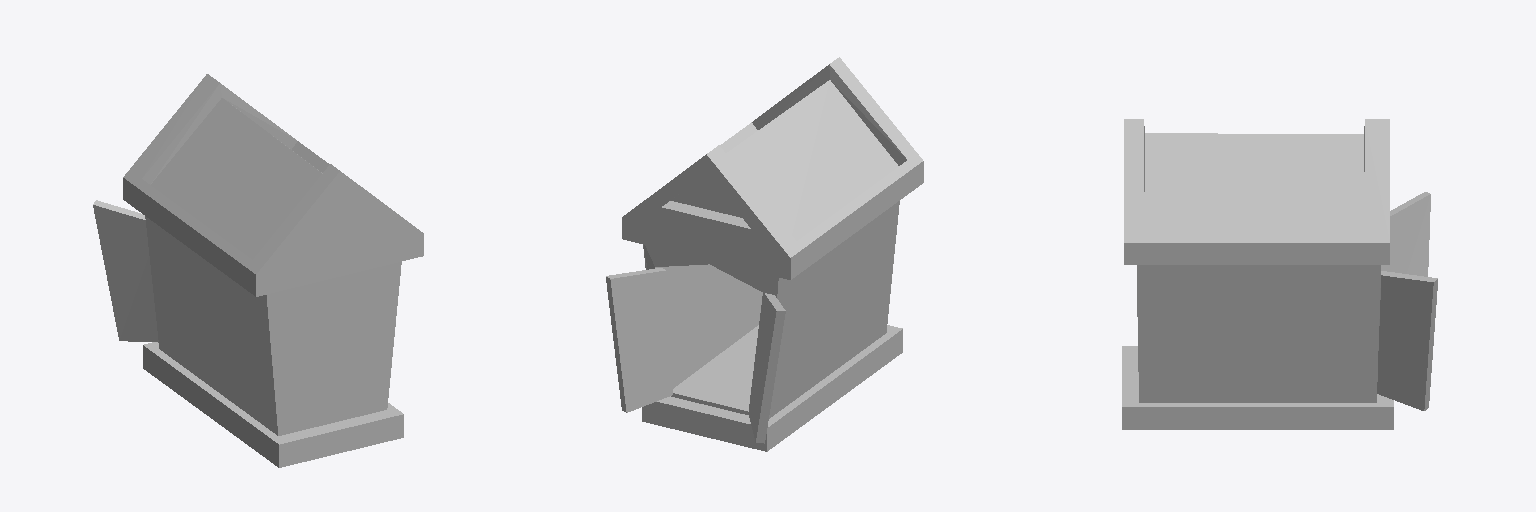
File: Texture_Crypt.obj
3 renders of one model, left to right at view 1: azimuth 30°, elevation 25°; view 2: azimuth 150°, elevation 25°; view 3: azimuth 270°, elevation 25°, orthographic.
Visible parts, largest first — view 1: Crypt Crypt, CryptDoors Crypt pCube17; view 2: Crypt Crypt, pCube16 CryptDoors Crypt, CryptDoors Crypt pCube17; view 3: Crypt Crypt, pCube16 CryptDoors Crypt, CryptDoors Crypt pCube17.
Boxes of the visible parts, x1=… form: Crypt Crypt: x1=123, y1=74, x2=423, y2=467; CryptDoors Crypt pCube17: x1=93, y1=200, x2=158, y2=342; Crypt Crypt: x1=622, y1=57, x2=923, y2=451; pCube16 CryptDoors Crypt: x1=606, y1=268, x2=672, y2=412; CryptDoors Crypt pCube17: x1=748, y1=293, x2=785, y2=443; Crypt Crypt: x1=1122, y1=119, x2=1393, y2=429; pCube16 CryptDoors Crypt: x1=1377, y1=271, x2=1437, y2=410; CryptDoors Crypt pCube17: x1=1381, y1=192, x2=1430, y2=276.
Size of the model in its own units: 2.03 by 3.01 by 3.08.